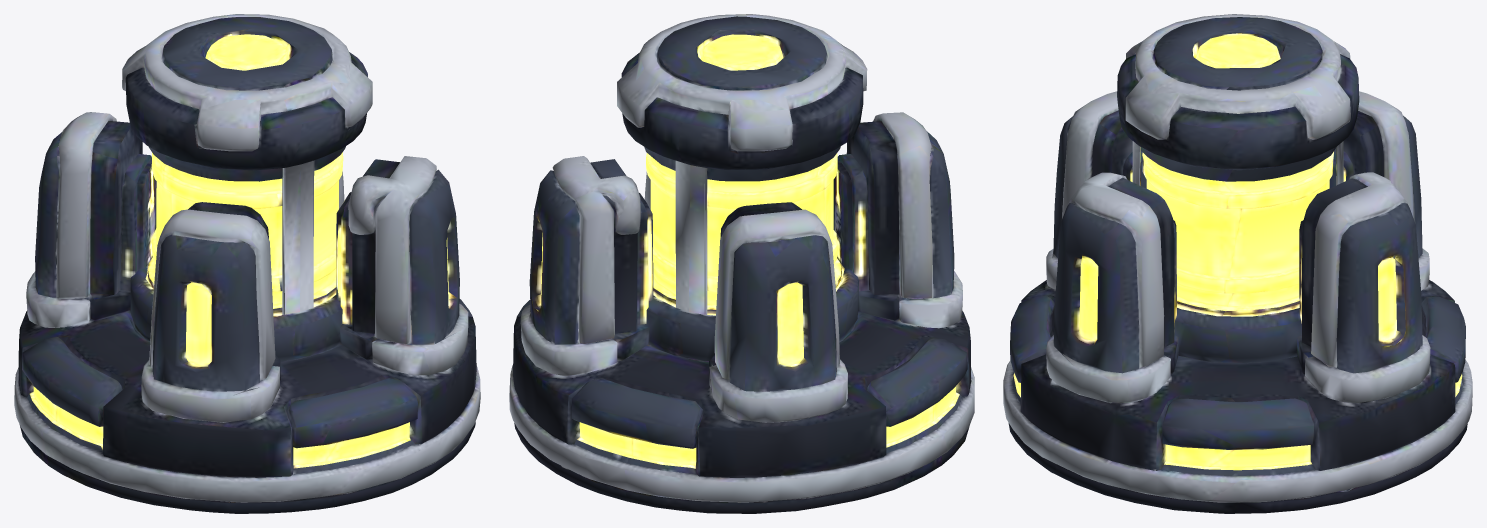
The model's file is building-energy-tier-2.glb.
The picture shows the model from 3 angles, left to right: view 1: azimuth 30°, elevation 25°; view 2: azimuth 150°, elevation 25°; view 3: azimuth 270°, elevation 25°; orthographic projection.
Parts seen in each view (by area): view 1: building-energy-tier-2-body; view 2: building-energy-tier-2-body; view 3: building-energy-tier-2-body.
Boxes of the visible parts, bbox=[...] form: building-energy-tier-2-body: bbox=[14, 14, 480, 513]; building-energy-tier-2-body: bbox=[509, 14, 974, 513]; building-energy-tier-2-body: bbox=[1003, 14, 1472, 513].
Size of the model in its own units: 1 by 0.8651 by 0.9989.
Materials: 1 (1 with a texture image).
